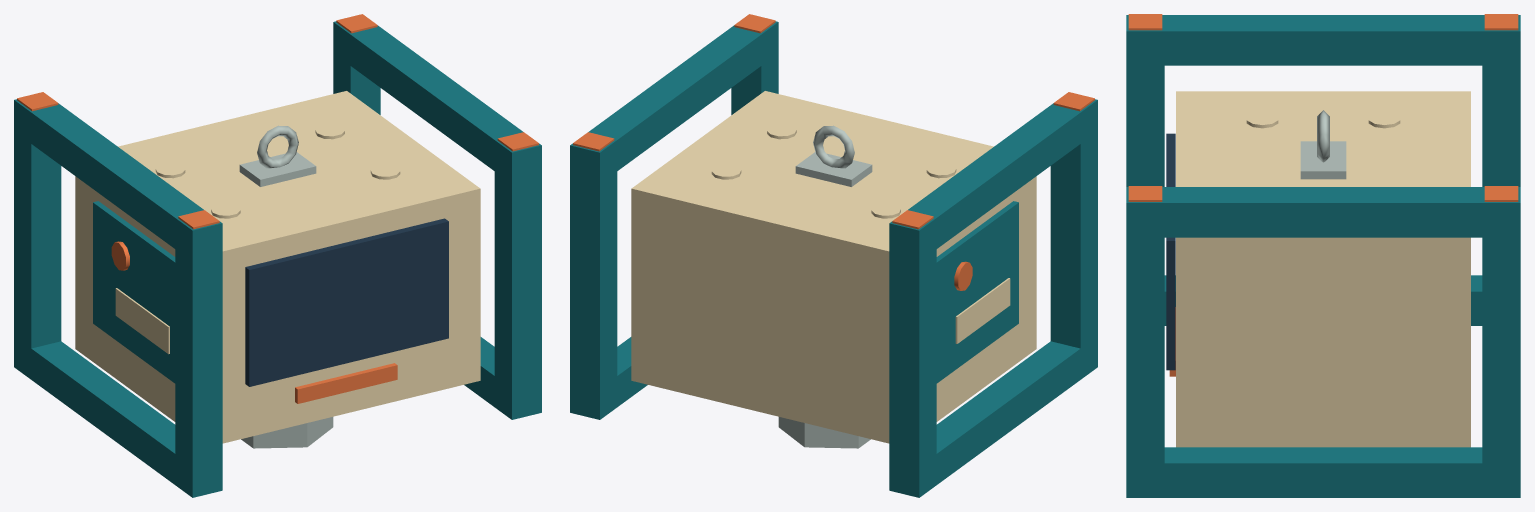
File: generator-lod-2.glb
3 renders of one model, left to right at view 1: azimuth 30°, elevation 25°; view 2: azimuth 150°, elevation 25°; view 3: azimuth 270°, elevation 25°, orthographic. The views are drawn at different scales.
Parts seen in each view (by area): view 1: generator_lod_2; view 2: generator_lod_2; view 3: generator_lod_2.
Part boxes in pixels (x1,y1,x2,y2): generator_lod_2: (14, 14, 541, 497); generator_lod_2: (570, 14, 1097, 497); generator_lod_2: (1126, 14, 1520, 497).
Bounding box in the file's own units: 1.75 × 1.47 × 1.55.
